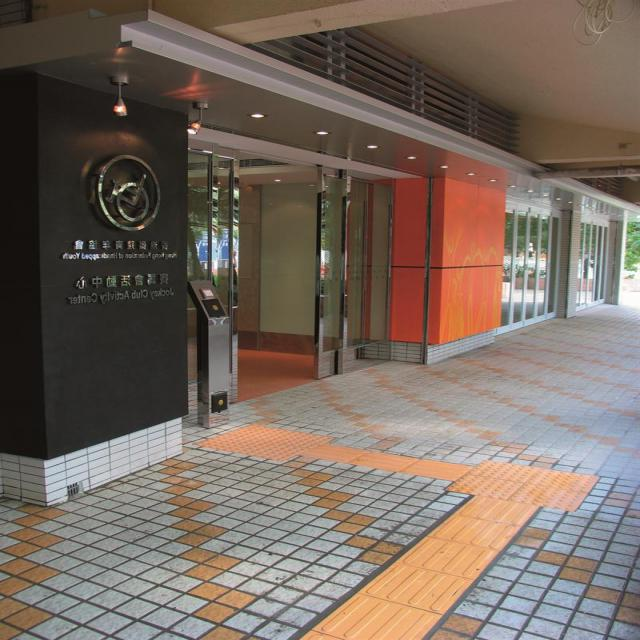tactile-guide-path: (298, 496, 540, 640), (443, 459, 598, 509), (303, 443, 472, 483), (197, 422, 335, 463)
